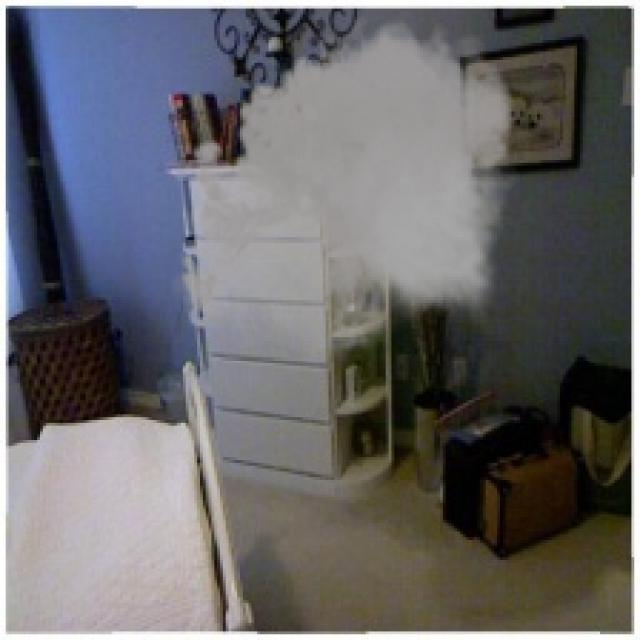smoke: (168, 9, 526, 372)
